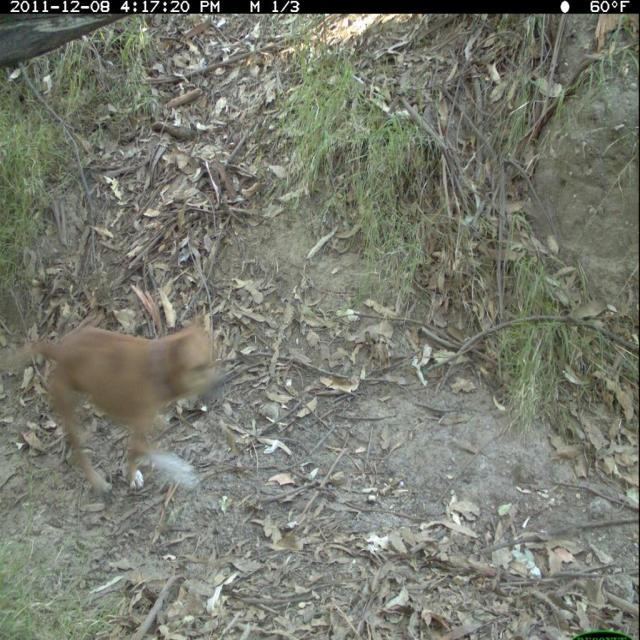dog: (2, 317, 234, 496)
